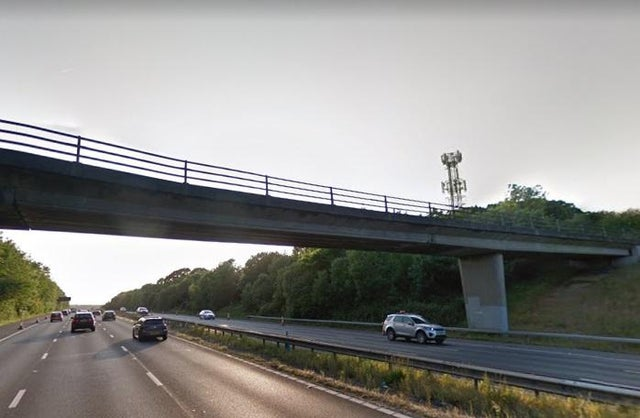bridge: (1, 120, 630, 260)
